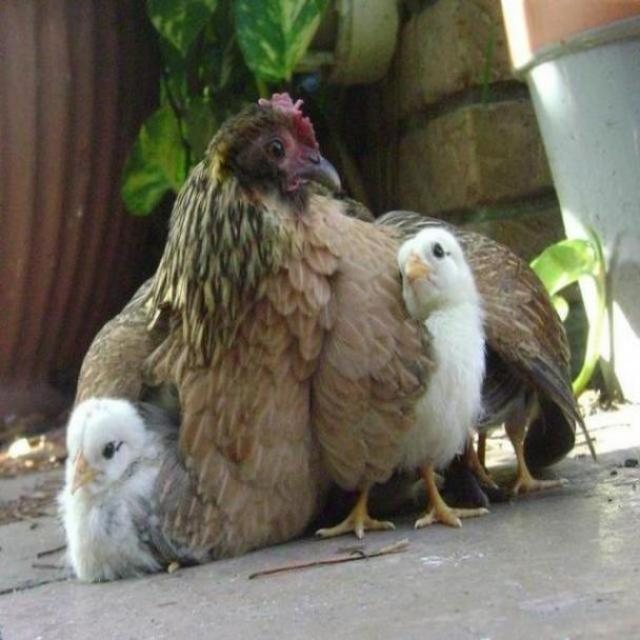Chicken: (70, 90, 594, 562), (315, 223, 492, 534)
